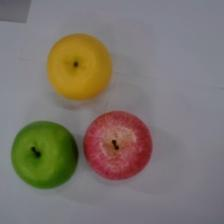green: (11, 121, 79, 189)
red: (84, 110, 152, 181)
yellow: (47, 33, 112, 101)
